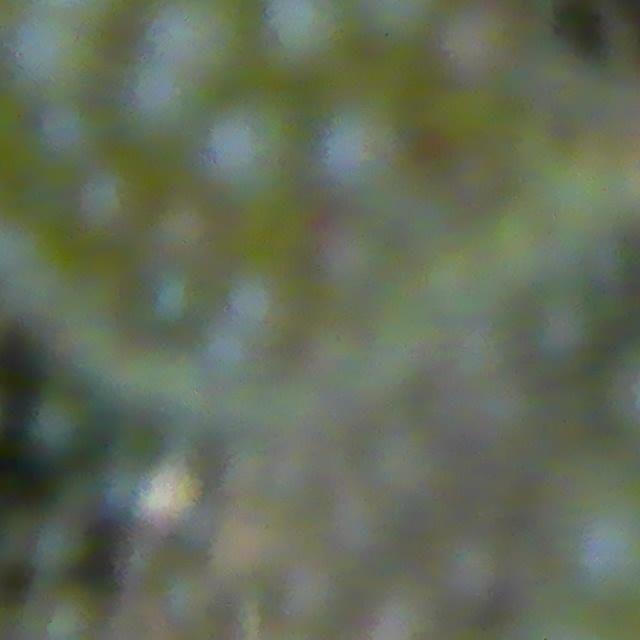SeaGrape: (199, 90, 303, 202), (317, 106, 403, 199), (8, 18, 113, 94), (426, 0, 524, 79), (136, 0, 234, 78), (564, 503, 640, 601), (108, 56, 198, 137), (30, 97, 107, 173), (270, 0, 351, 66), (79, 156, 141, 242), (136, 262, 206, 332), (16, 585, 103, 640), (24, 390, 90, 458), (150, 196, 215, 261), (29, 512, 90, 577)
